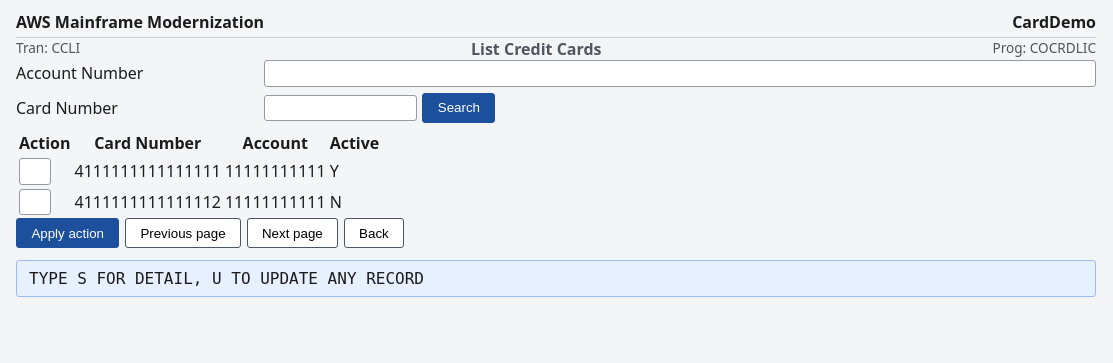
Card list screen › refuses PF7 on the first page
Expected: the text "4111111111111111" is shown, [74, 157, 222, 186]
What coordinates should you click on to do the following:
click the button "Previous page"
I would click on:
 (183, 233)
Its box is [125, 218, 241, 248].
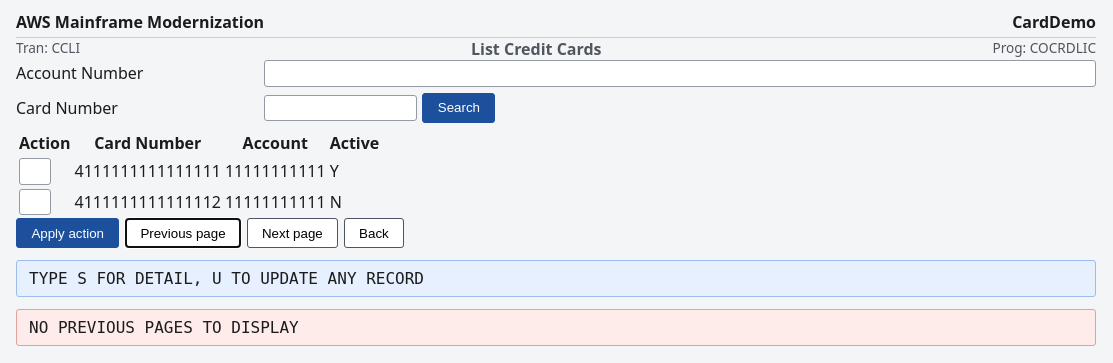
Now the message "NO PREVIOUS PAGES TO DISPLAY" is shown, box [16, 309, 1096, 346]
